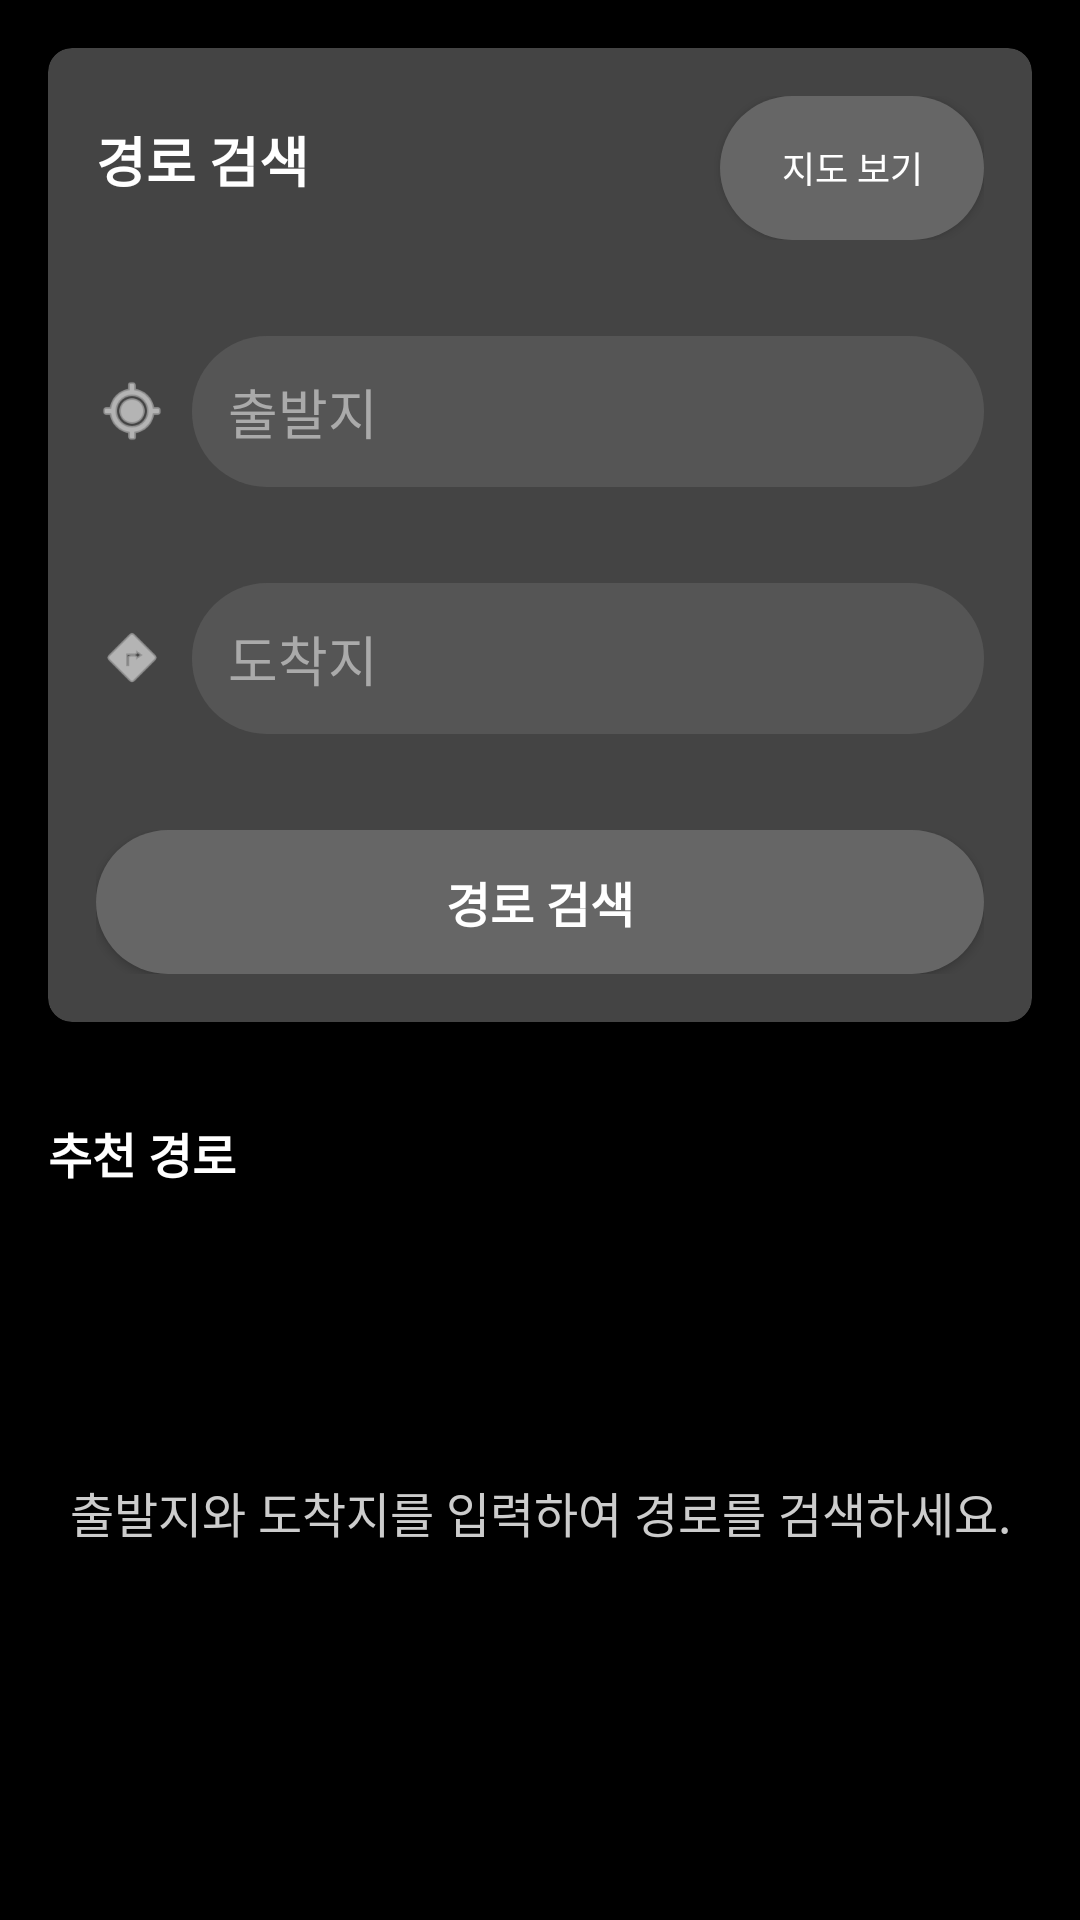

Screen size 1080 x 1920. Icon name, then its box in pixels as bbox=[x1, y1, x2, y2]:
directions: bbox=[107, 633, 157, 682]
mylocation: bbox=[103, 382, 161, 440]
